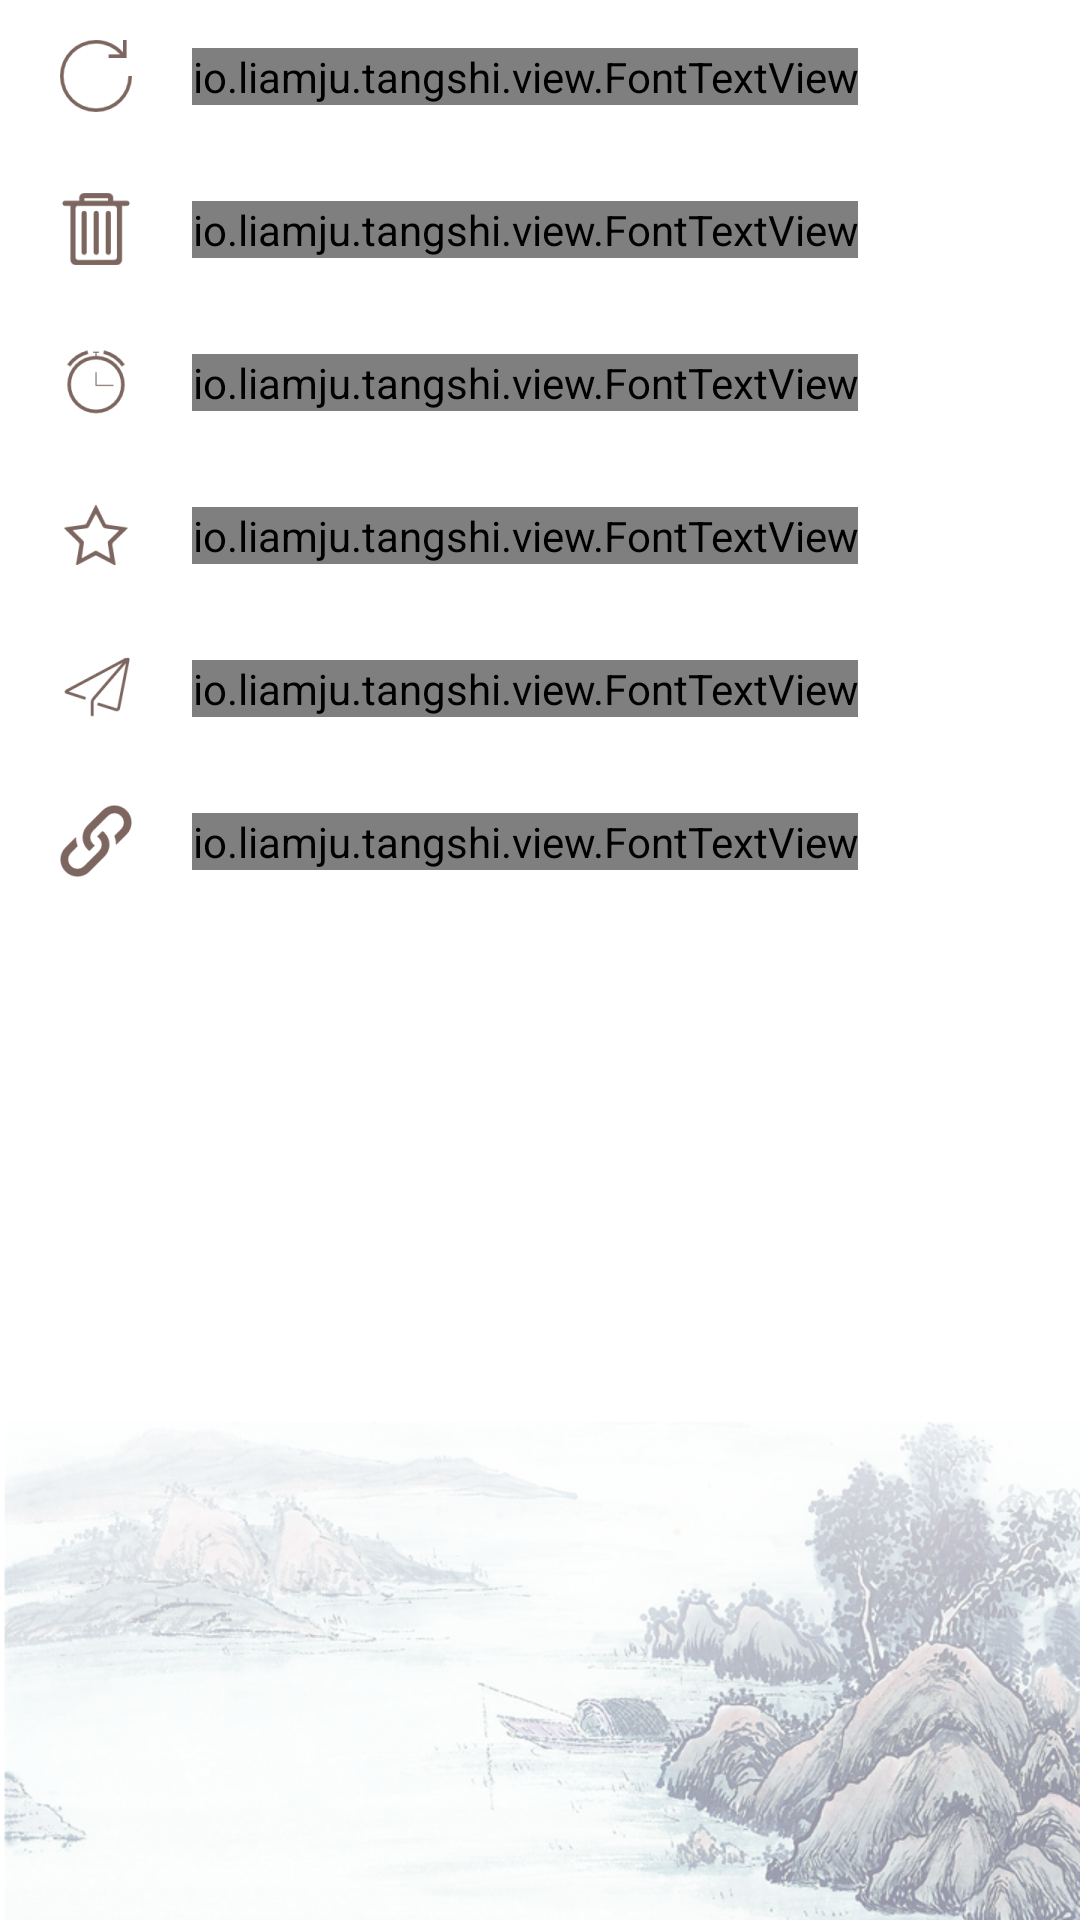

Icon click points for this 1080w x 1920h phone screenshot, format [x,y]:
alarmclock: [96,382]
feed back: [97,687]
star brown: [96,535]
trash: [96,229]
update: [96,76]
